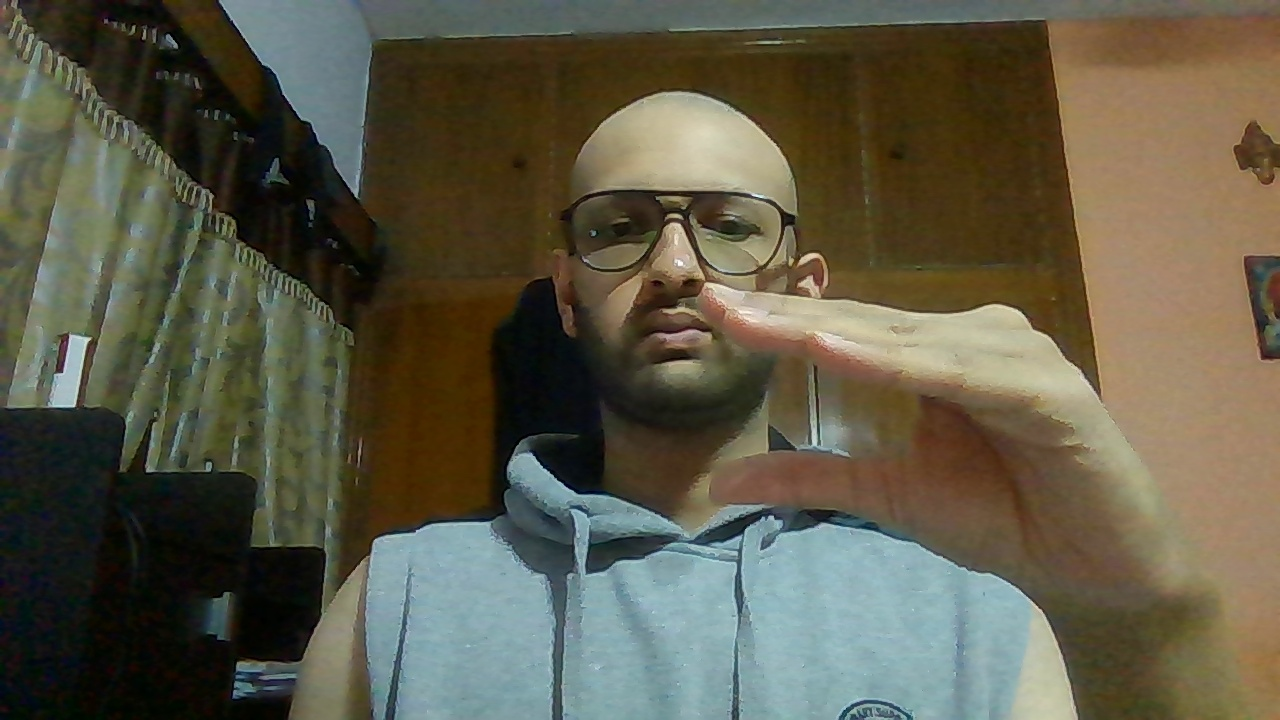No: (695, 278, 1179, 613)
